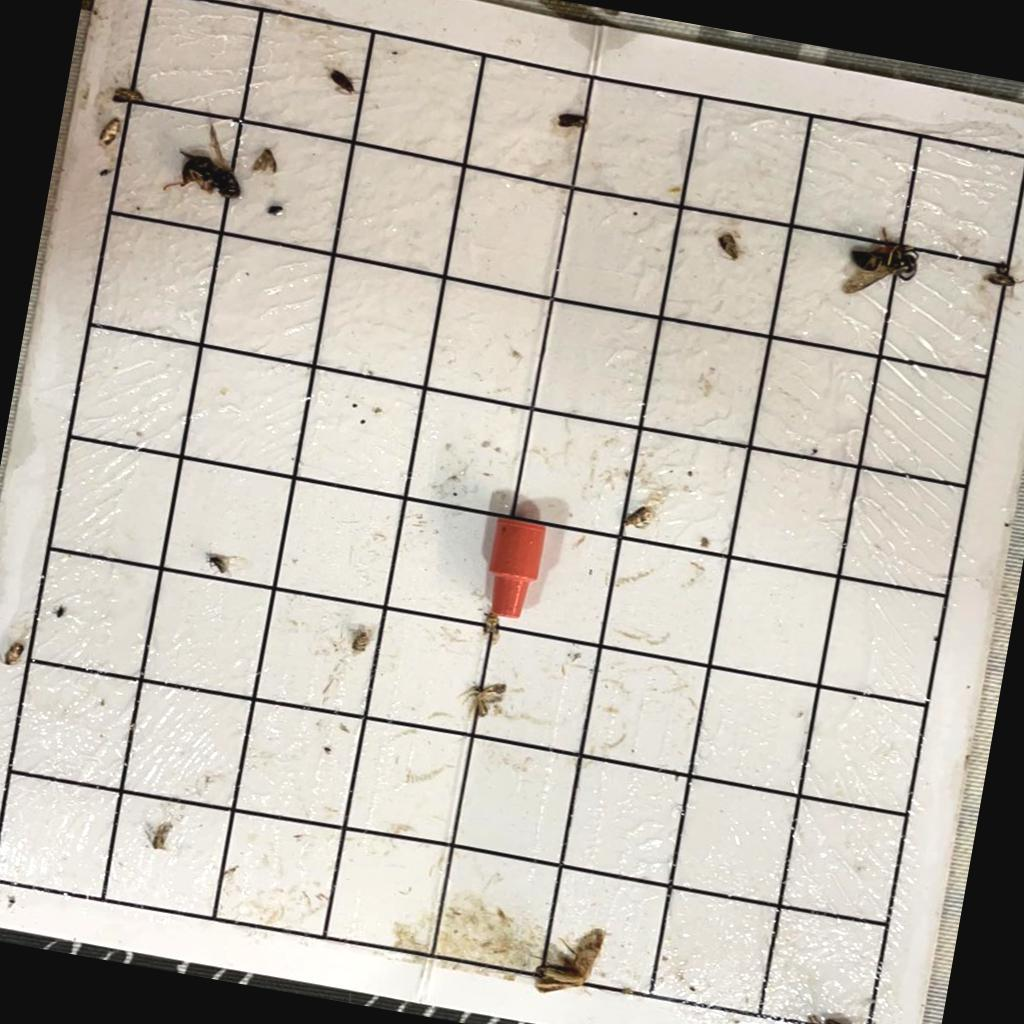grape_moth: (454, 674, 510, 724), (94, 110, 124, 152), (249, 142, 283, 178), (620, 500, 656, 534), (145, 819, 178, 854), (110, 82, 148, 110), (714, 229, 745, 263), (0, 636, 29, 671), (478, 609, 504, 639), (349, 628, 372, 656)
